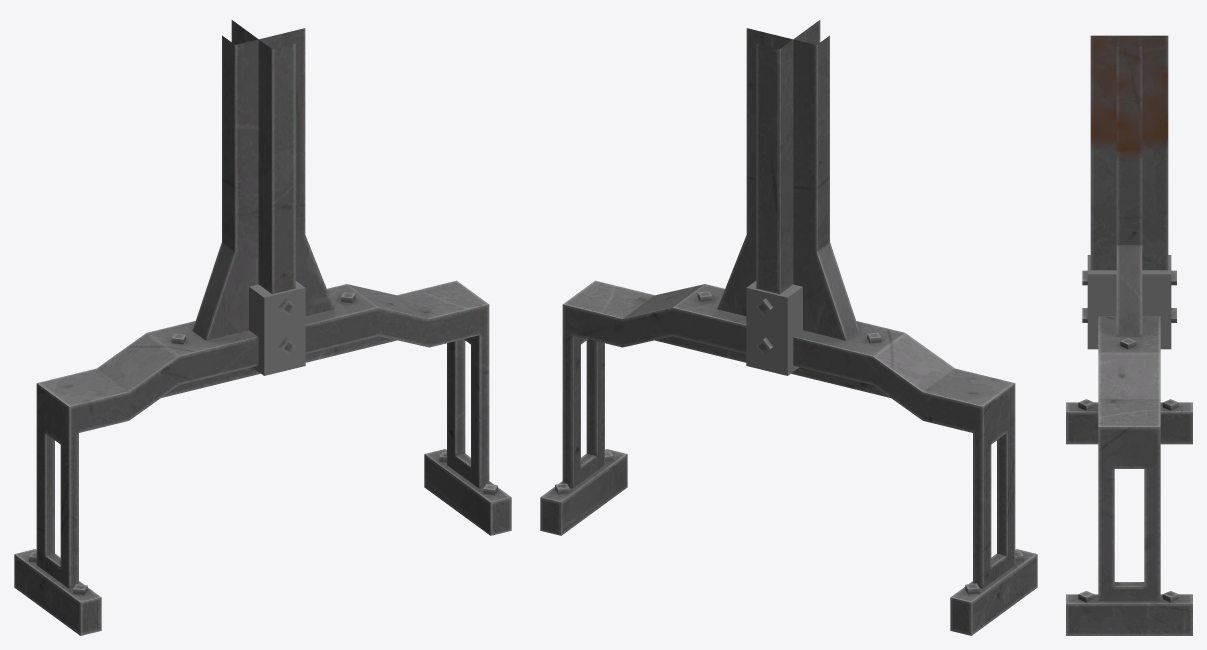
Rendered from conveyor_to_roller_middle.glb.
3 views of the same model, side by side, from view 1: azimuth 30°, elevation 25°; view 2: azimuth 150°, elevation 25°; view 3: azimuth 270°, elevation 25° (orthographic). The views are drawn at different scales.
Parts seen in each view (by area): view 1: conveyor_to_roller_middle; view 2: conveyor_to_roller_middle; view 3: conveyor_to_roller_middle.
Boxes of the visible parts, left/top/right/bottom form: conveyor_to_roller_middle: left=14, top=20, right=511, bottom=635; conveyor_to_roller_middle: left=540, top=20, right=1037, bottom=635; conveyor_to_roller_middle: left=1066, top=35, right=1192, bottom=635.
Bounding box in the file's own units: 0.9507 × 1.11 × 0.2531.
Materials: 1 (1 with a texture image).
